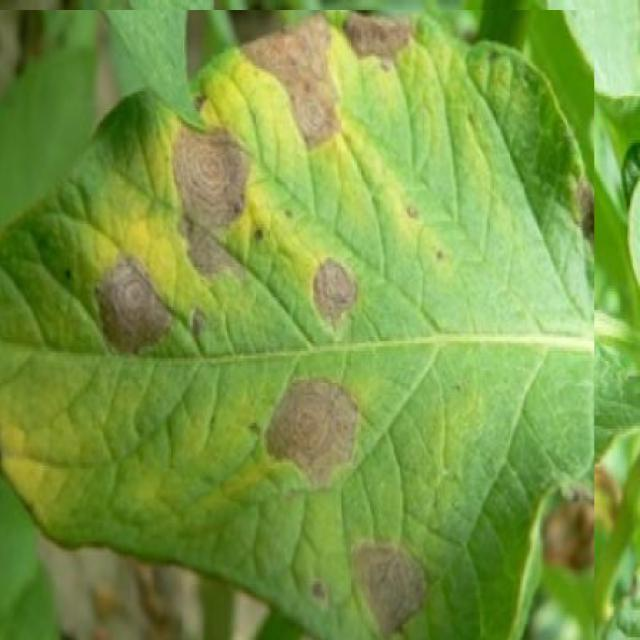Early Blight: (0, 10, 594, 640)
